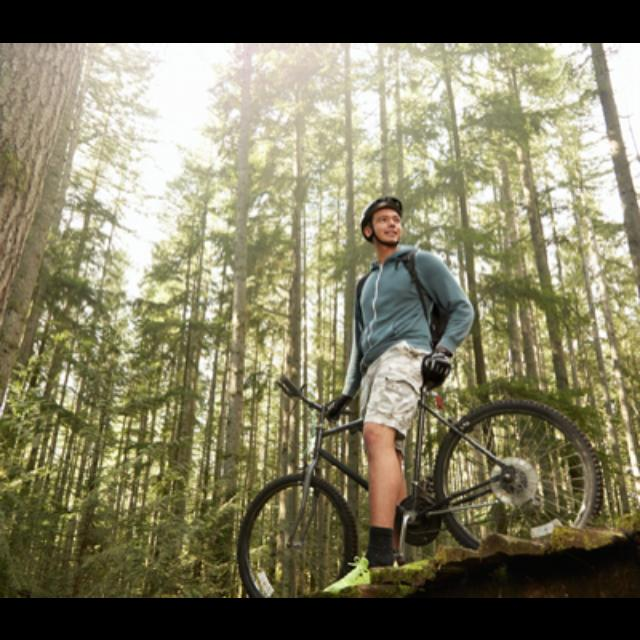With Helmet: (356, 191, 409, 247)
